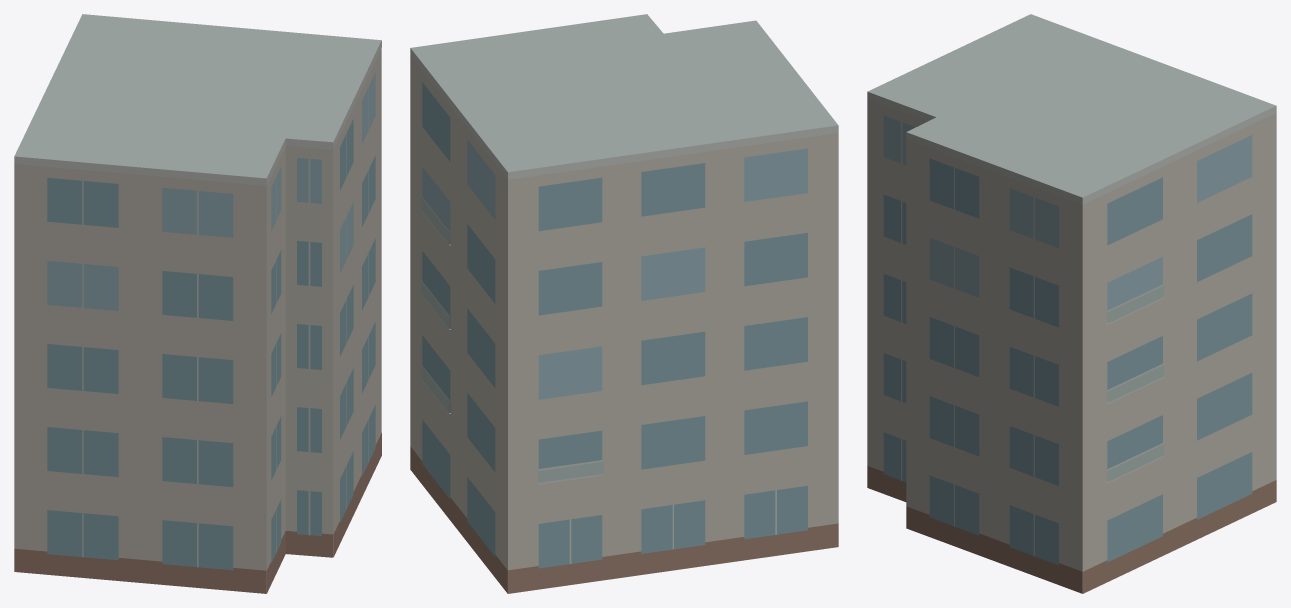
The model's file is survey-upis-32673062.glb.
The picture shows the model from 3 angles, left to right: view 1: azimuth 30°, elevation 25°; view 2: azimuth 150°, elevation 25°; view 3: azimuth 270°, elevation 25°; orthographic projection. The views are drawn at different scales.
Visible parts, largest first — view 1: survey-upis-32673062.tmp; view 2: survey-upis-32673062.tmp; view 3: survey-upis-32673062.tmp.
Part boxes in pixels (x1,y1,x2,y2): survey-upis-32673062.tmp: [14, 14, 381, 593]; survey-upis-32673062.tmp: [410, 14, 838, 593]; survey-upis-32673062.tmp: [867, 14, 1276, 593].
Bounding box in the file's own units: 13.73 × 13.8 × 12.92.
